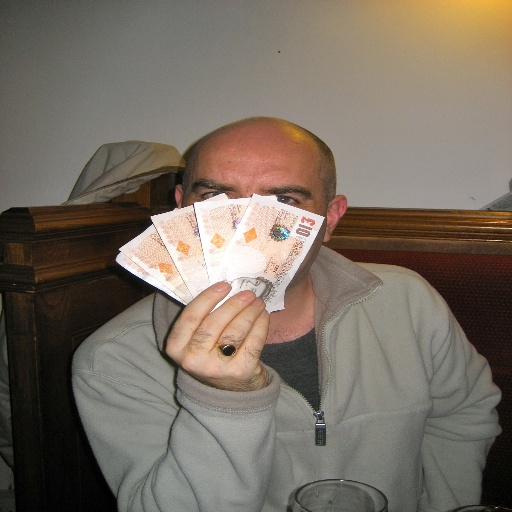hand: (155, 287, 318, 405)
